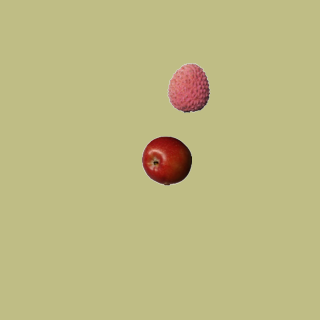Apple Braeburn: (141, 135, 191, 185)
Lychee: (163, 62, 213, 112)
